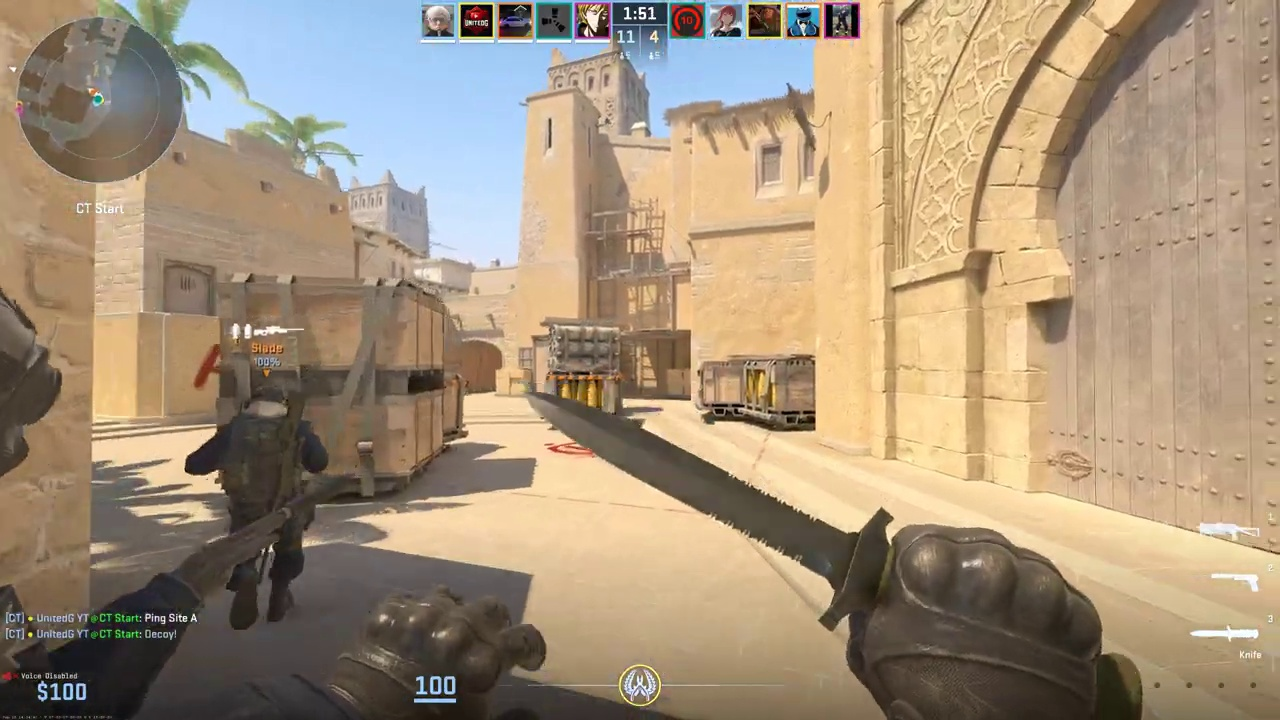CT: (203, 385, 328, 631)
